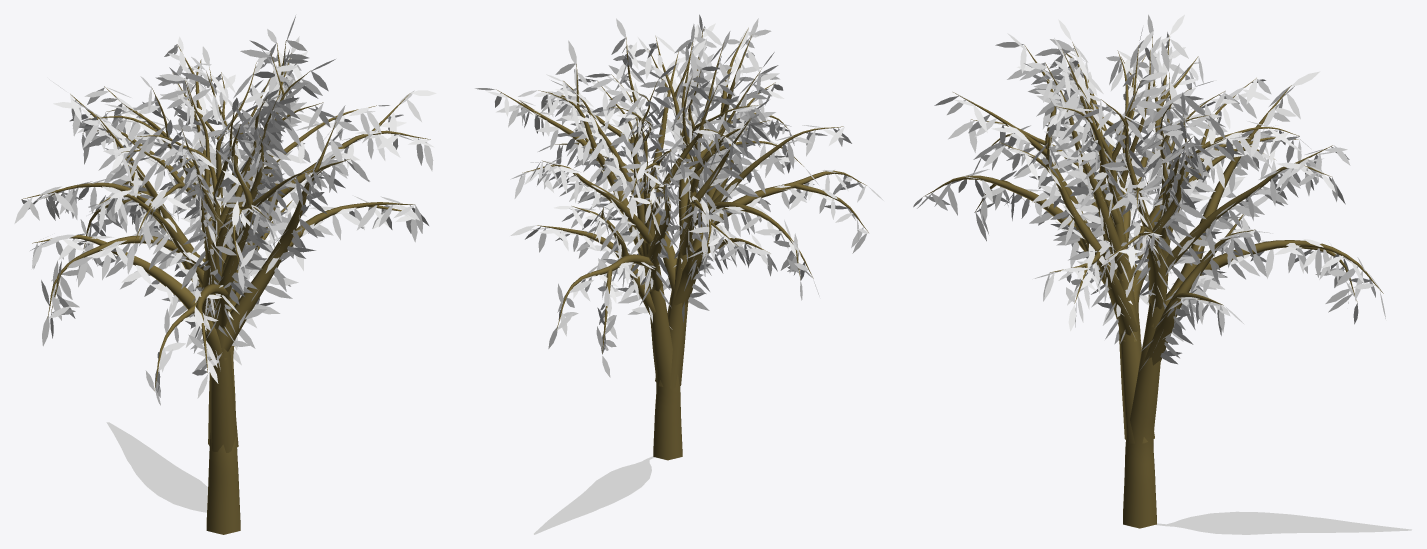
The model's file is greentree1.fbx.
3 renders of one model, left to right at view 1: azimuth 30°, elevation 25°; view 2: azimuth 150°, elevation 25°; view 3: azimuth 270°, elevation 25°, orthographic. The views are drawn at different scales.
Visible parts, largest first — view 1: leaves, tree, Leaf; view 2: leaves, tree, Leaf; view 3: leaves, tree, Leaf.
Part boxes in pixels (bbox=[...]): leaves: bbox=[14, 15, 436, 405]; tree: bbox=[22, 40, 430, 534]; Leaf: bbox=[106, 422, 207, 512]; leaves: bbox=[475, 14, 883, 377]; tree: bbox=[496, 28, 868, 460]; Leaf: bbox=[534, 456, 654, 534]; leaves: bbox=[913, 14, 1385, 369]; tree: bbox=[923, 35, 1383, 528]; Leaf: bbox=[1155, 511, 1411, 534].
Bounding box in the file's own units: 629 × 714 × 682.
